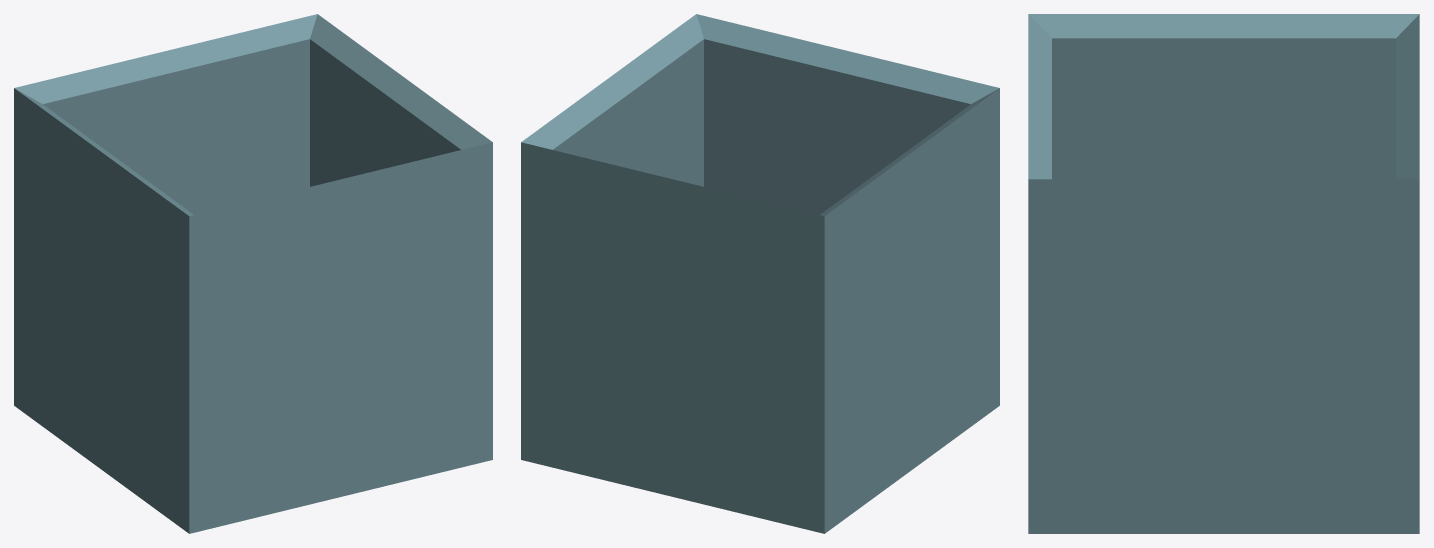
The model's file is demo_scene_pipe.obj.
The picture shows the model from 3 angles, left to right: view 1: azimuth 30°, elevation 25°; view 2: azimuth 150°, elevation 25°; view 3: azimuth 270°, elevation 25°; orthographic projection. The views are drawn at different scales.
Parts seen in each view (by area): view 1: water_container_water_container_mesh; view 2: water_container_water_container_mesh; view 3: water_container_water_container_mesh.
Part boxes in pixels (box(x1,y1,x2,y2)): water_container_water_container_mesh: box(14, 14, 492, 533); water_container_water_container_mesh: box(521, 14, 999, 533); water_container_water_container_mesh: box(1028, 14, 1419, 533).
Size of the model in its own units: 10.77 by 10.77 by 10.77.
